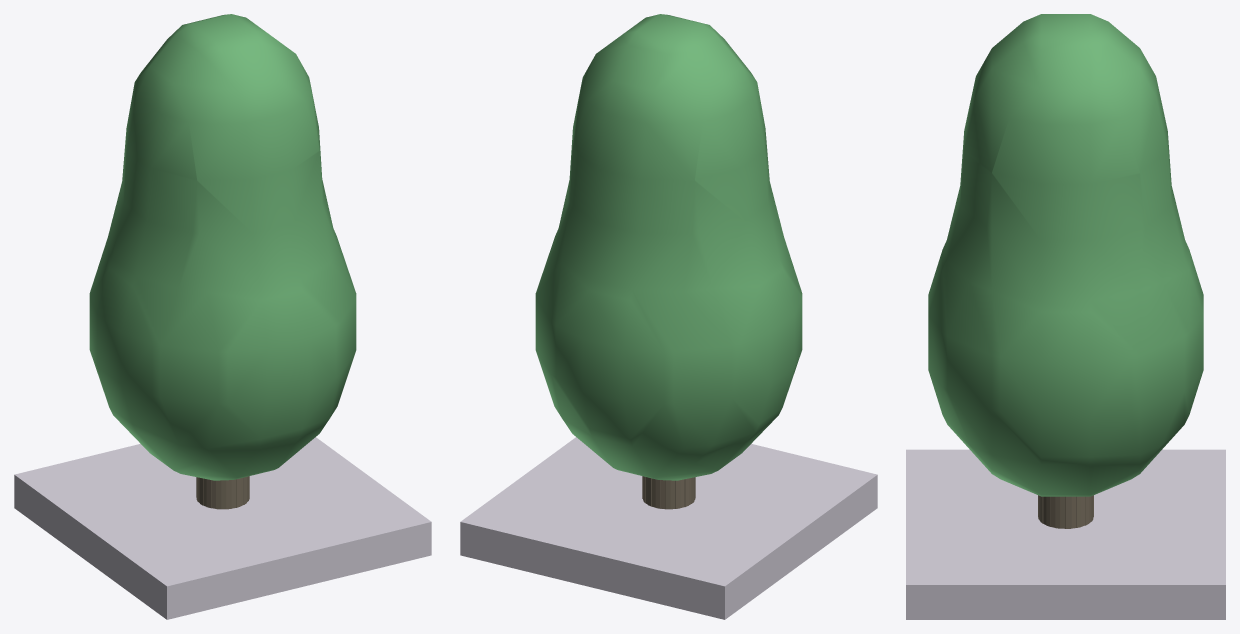
File: grass_tree_tall.fbx
The picture shows the model from 3 angles, left to right: view 1: azimuth 30°, elevation 25°; view 2: azimuth 150°, elevation 25°; view 3: azimuth 270°, elevation 25°; orthographic projection. The views are drawn at different scales.
Visible parts, largest first — view 1: tall tree, white base.007; view 2: tall tree, white base.007; view 3: tall tree, white base.007.
Part boxes in pixels (x1,y1,x2,y2): tall tree: (89, 14, 356, 509); white base.007: (14, 437, 431, 619); tall tree: (535, 14, 802, 509); white base.007: (460, 437, 877, 619); tall tree: (928, 14, 1203, 528); white base.007: (906, 449, 1225, 619).
Size of the model in its own units: 201 by 365 by 201.
